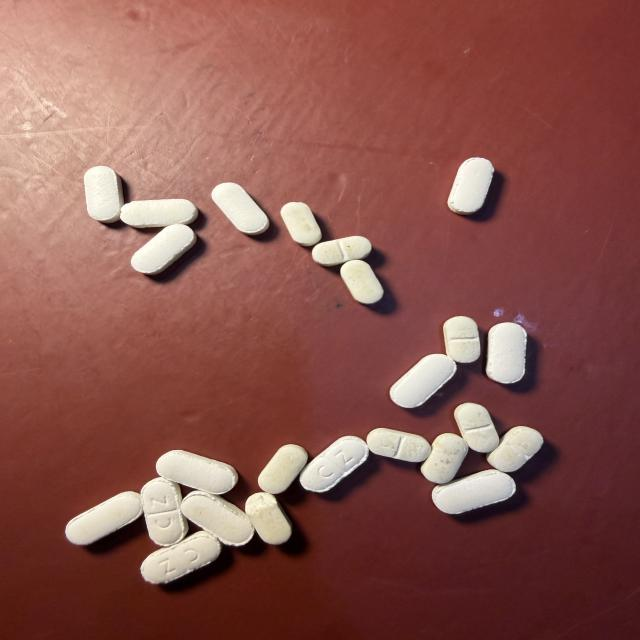pill: (141, 532, 221, 583), (66, 492, 142, 545), (182, 491, 253, 545), (300, 436, 368, 492), (432, 470, 515, 514), (156, 450, 237, 494), (390, 354, 456, 408), (131, 224, 196, 275), (141, 478, 188, 546), (212, 183, 269, 235), (487, 426, 543, 472), (448, 158, 493, 214), (258, 444, 307, 493), (486, 323, 526, 383), (421, 433, 468, 483), (246, 493, 291, 544), (84, 166, 123, 223), (454, 403, 499, 452), (367, 428, 431, 462), (121, 199, 198, 227), (341, 260, 383, 304), (312, 236, 371, 266), (281, 203, 321, 246), (444, 316, 480, 363)
